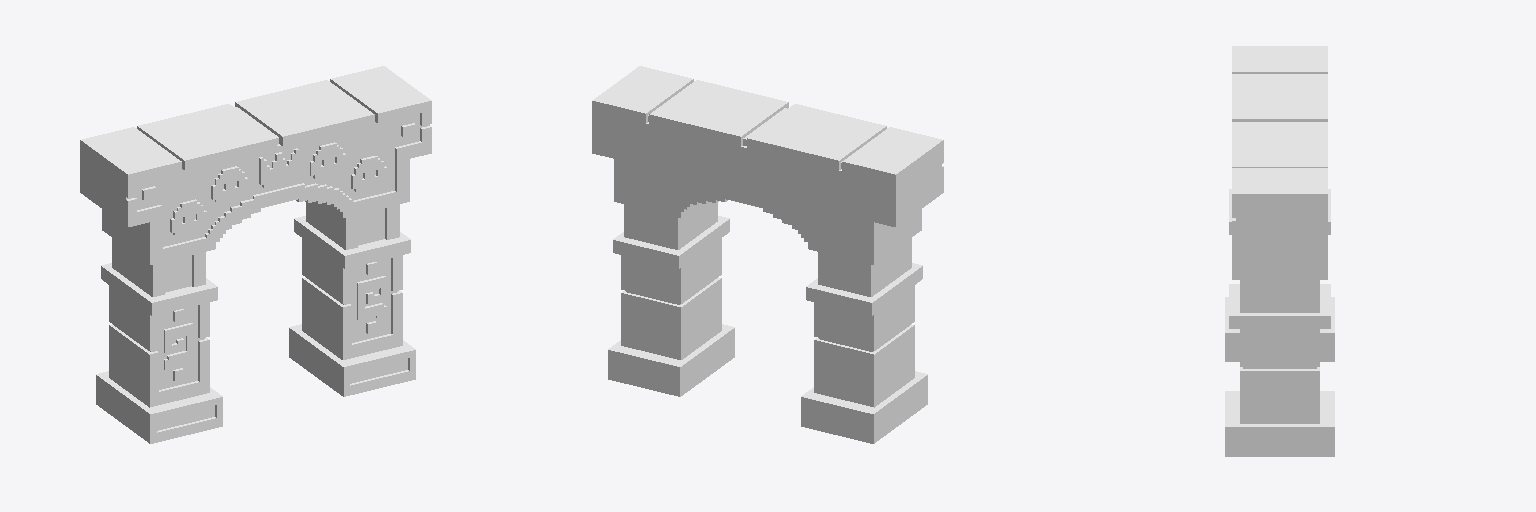
File: Tilemap_Deco_C0_P000.obj
The picture shows the model from 3 angles: view 1: azimuth 30°, elevation 25°; view 2: azimuth 150°, elevation 25°; view 3: azimuth 270°, elevation 25°; orthographic projection.
Parts seen in each view (by area): view 1: object 1; view 2: object 1; view 3: object 1.
Part boxes in pixels (x1,y1,x2,y2): object 1: (80,66,431,443); object 1: (592,66,943,443); object 1: (1225,46,1334,456).
Bounding box in the file's own units: 9.6 × 8.2 × 3.